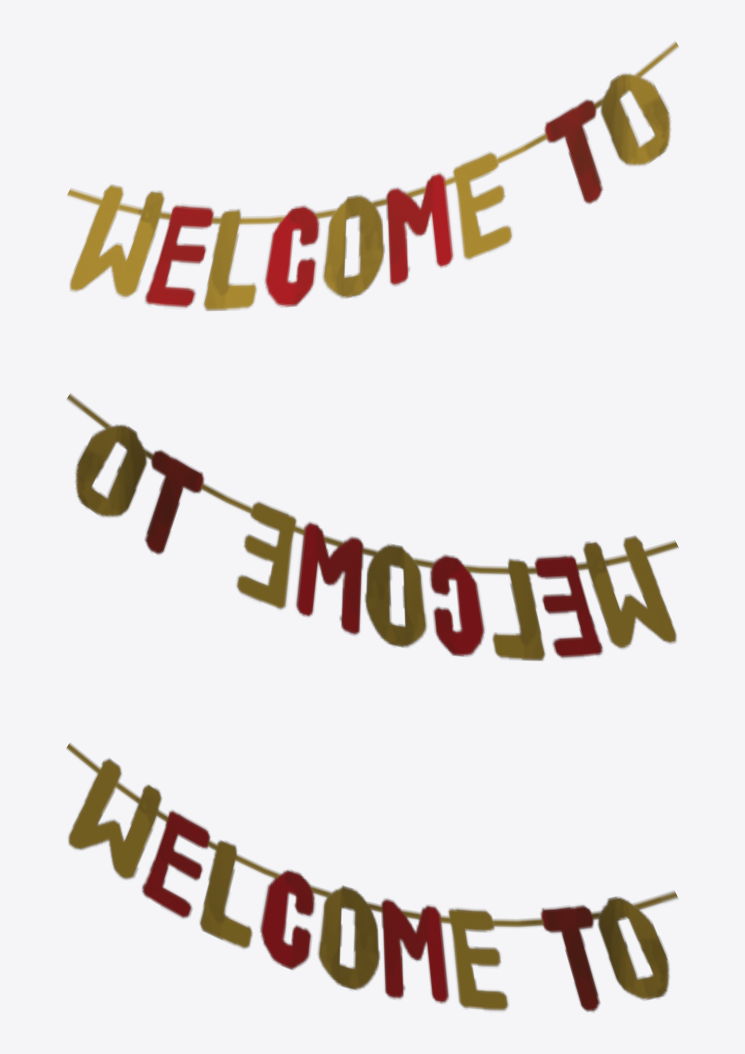
The model's file is hellfire-banner-welcome.glb.
3 views of the same model, one above another, from view 1: azimuth 30°, elevation 25°; view 2: azimuth 150°, elevation 25°; view 3: azimuth 330°, elevation 25° (orthographic).
Visible parts, largest first — view 1: HellfireSign.Welcome; view 2: HellfireSign.Welcome; view 3: HellfireSign.Welcome.
Part boxes in pixels (x1,y1,x2,y2): HellfireSign.Welcome: (67, 41, 678, 310); HellfireSign.Welcome: (66, 393, 678, 660); HellfireSign.Welcome: (66, 743, 677, 1012).
Bounding box in the file's own units: 2.65 × 0.8202 × 0.0153.
Materials: 1 (1 with a texture image).
